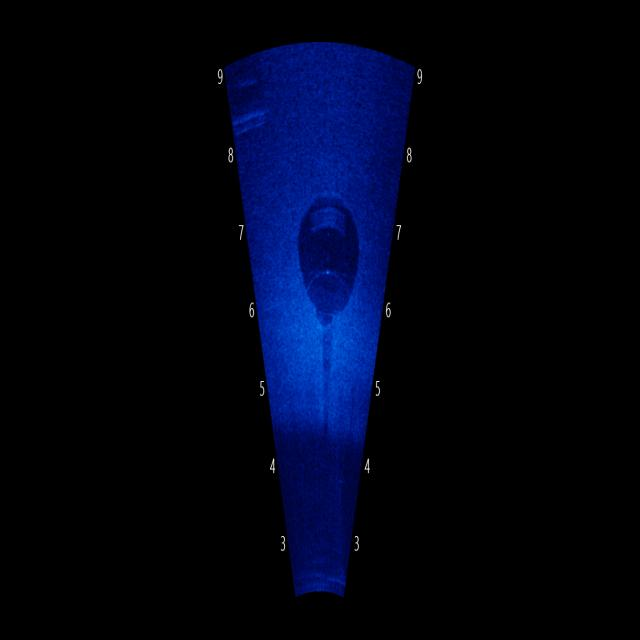circle: (280, 158, 365, 343)
